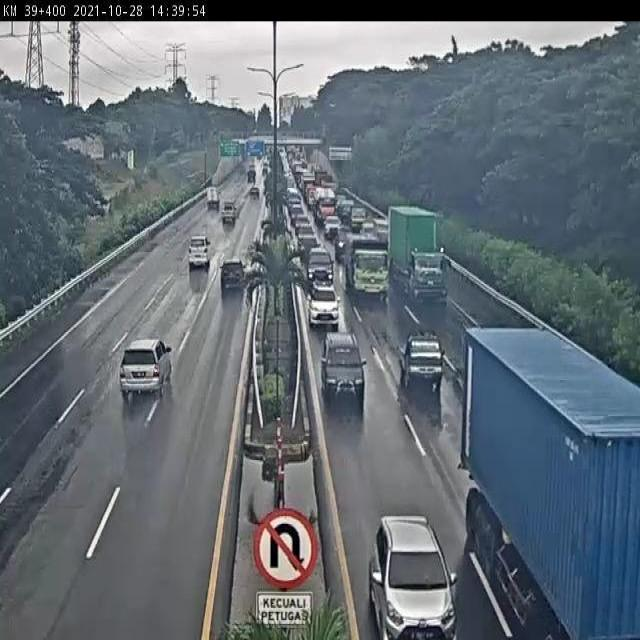big truck: (463, 321, 639, 640), (388, 204, 447, 304), (343, 235, 388, 296)
car: (366, 517, 454, 640), (118, 339, 172, 400), (321, 333, 366, 403), (397, 332, 443, 392), (308, 283, 338, 328), (218, 260, 246, 296), (306, 246, 331, 282), (188, 238, 210, 270), (297, 230, 318, 258), (219, 201, 237, 228)
